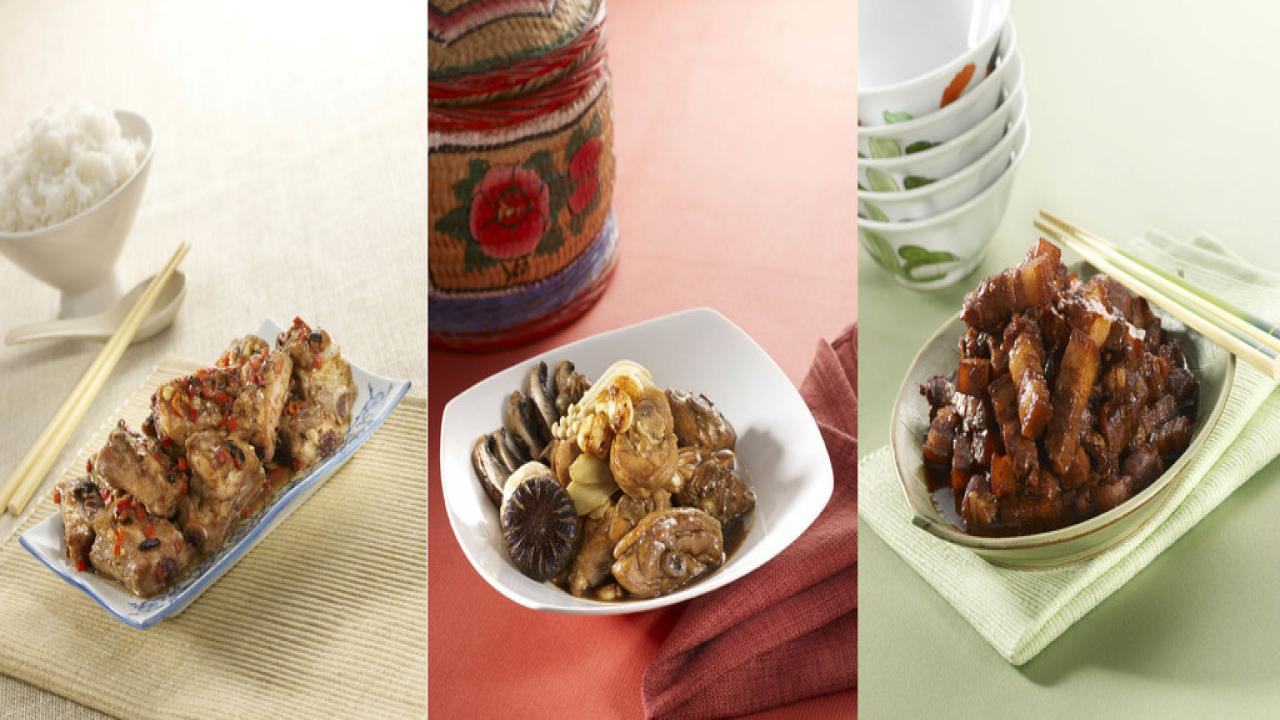chopstick: (4, 238, 195, 514), (1034, 212, 1280, 380)
